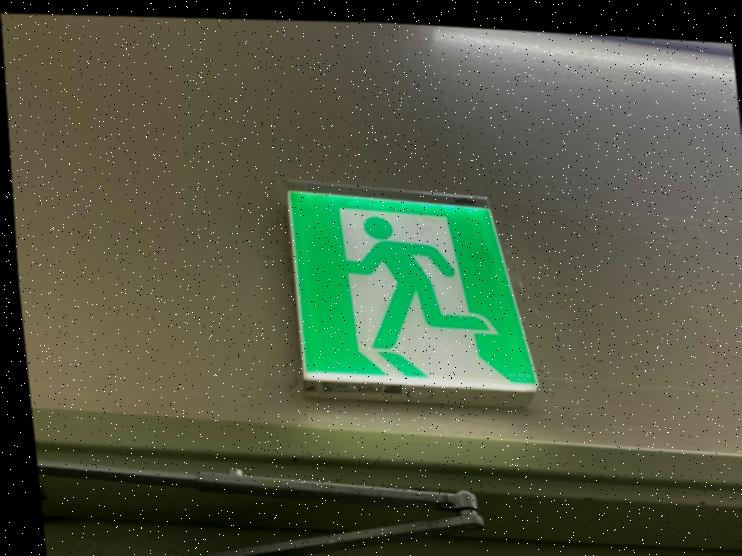emergency_exit: (286, 184, 539, 398)
